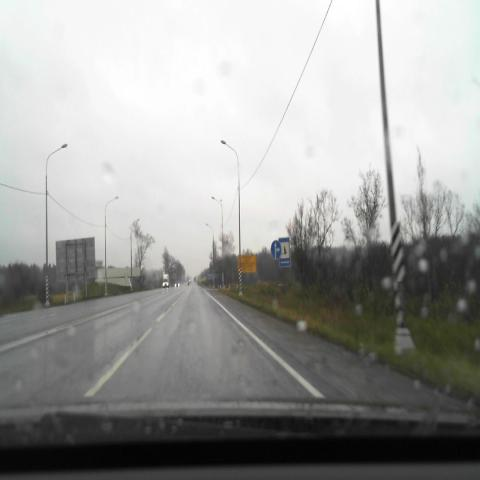7_11: (278, 238, 290, 267)
